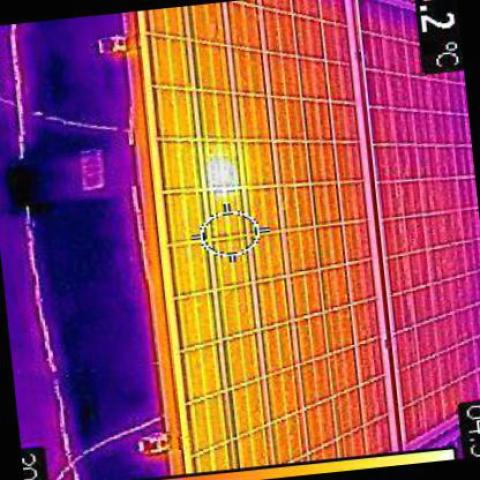fault: (207, 156, 240, 186)
